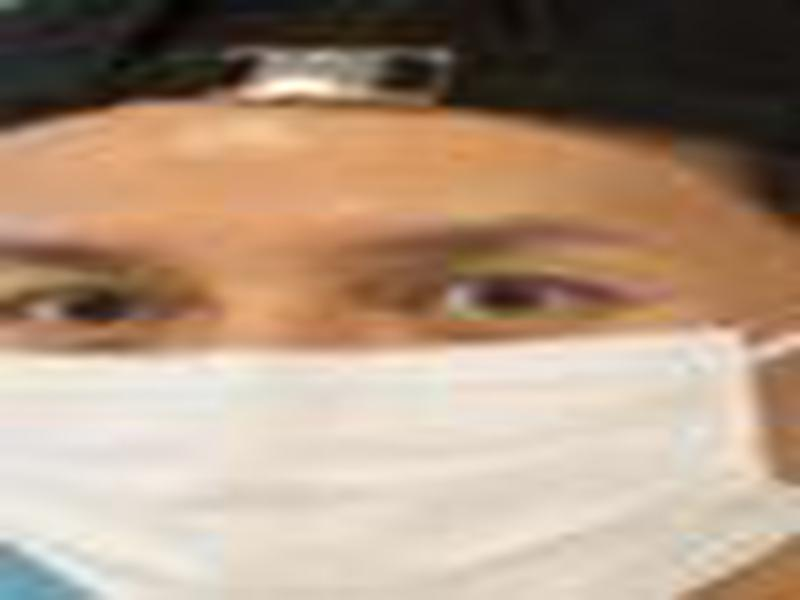with_mask: (1, 84, 799, 598)
